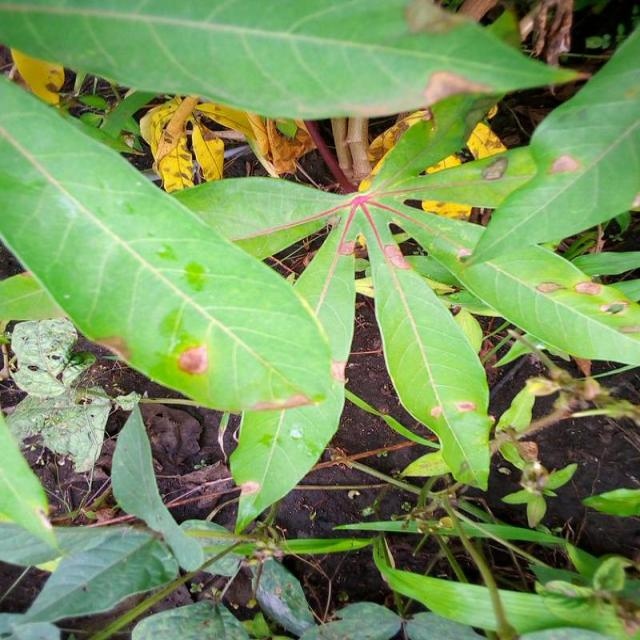cassava leaf: (0, 71, 338, 416), (0, 0, 586, 122)
